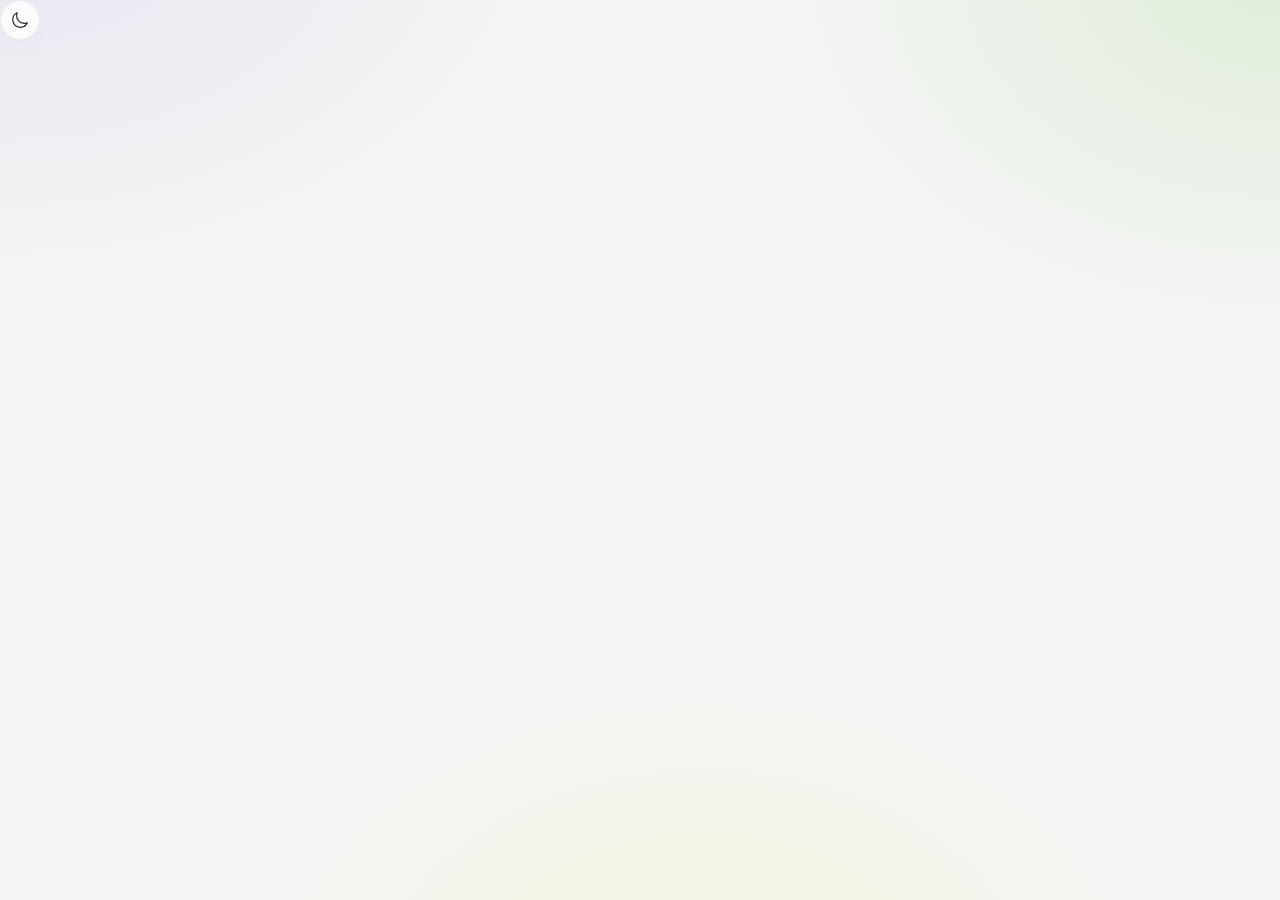
Test: ThemeToggle › switches to dark, applies the class and saves the choice
Click the button named "Switch to dark mode". click: (20, 20)
box: [0,0,40,40]
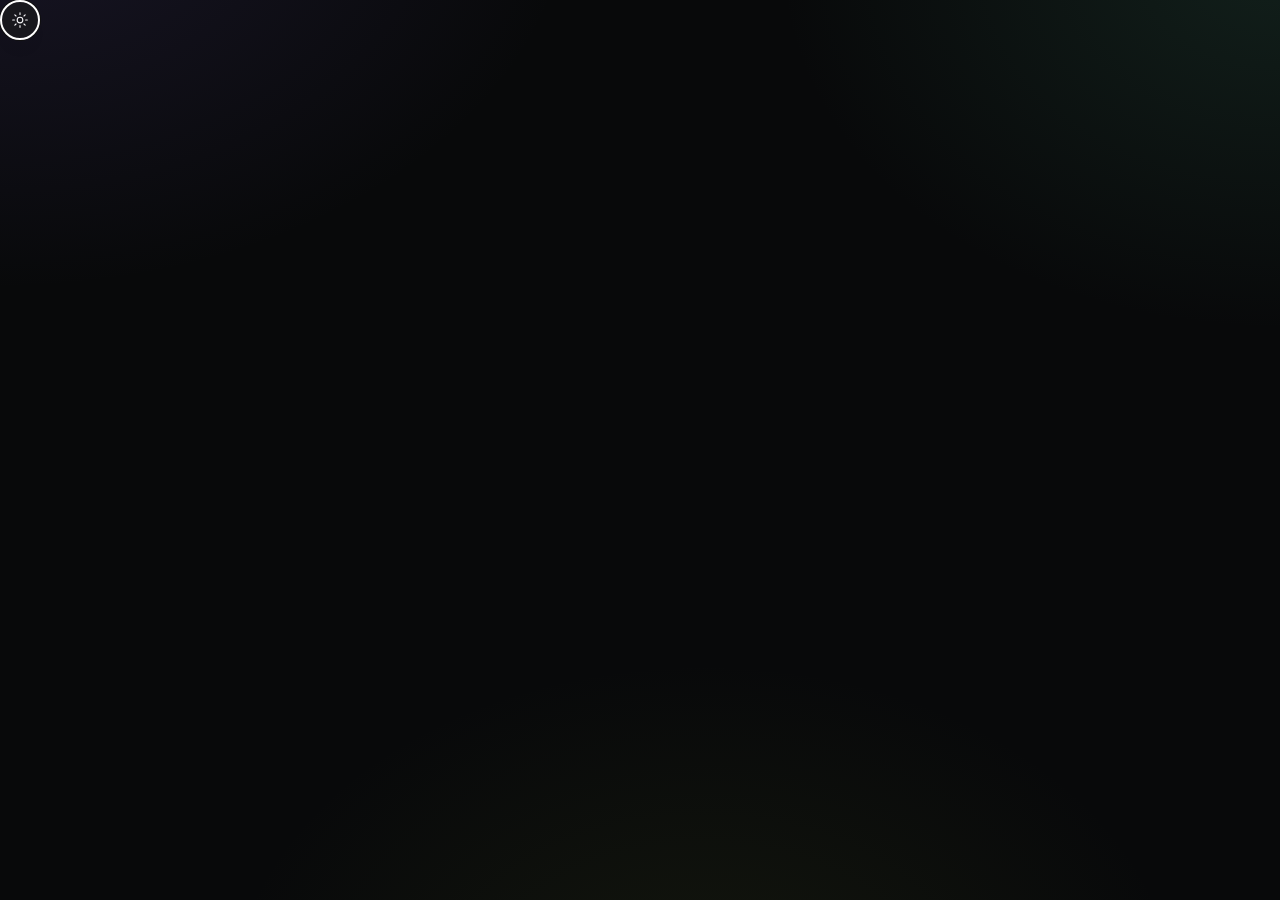
Expected: the button named "Switch to light mode" is shown, [0,0,40,40]
